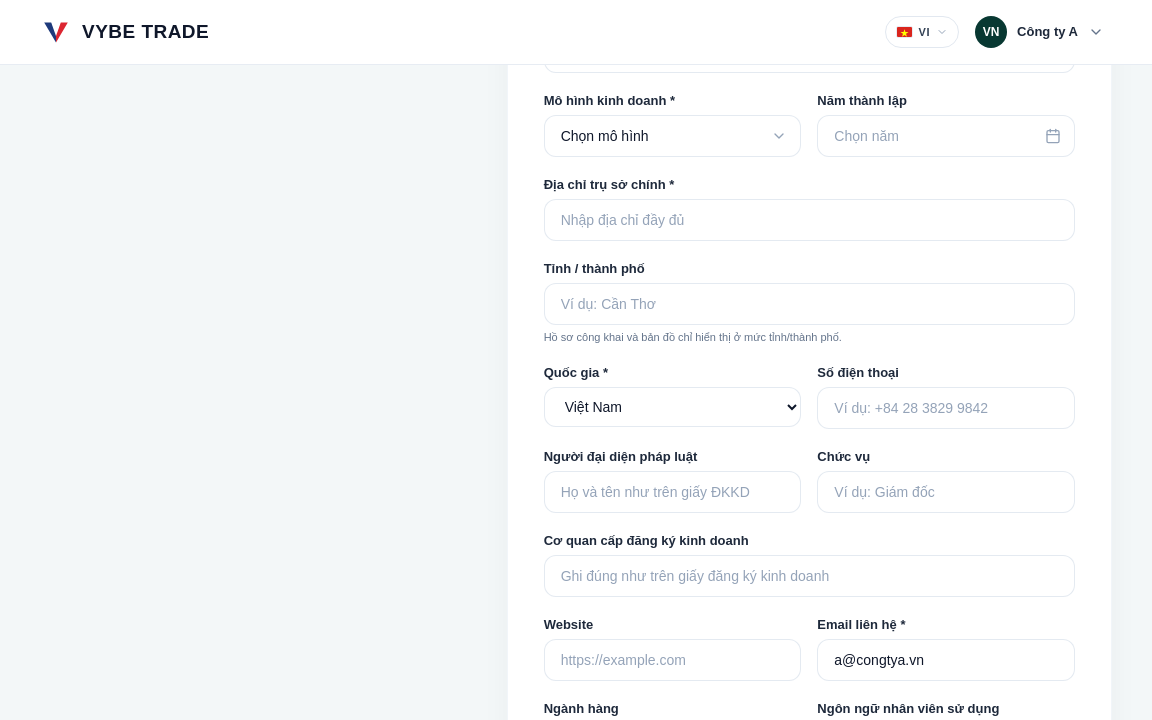
Test case: SellerOnboarding hoàn tất — gửi hồ sơ và danh sách sản phẩm (B5) › lỗi từ server hiện ngay trên form, người dùng không mất dữ liệu
(page scrolled)
Submit the form named "Tiếp tục"
(page scrolled)
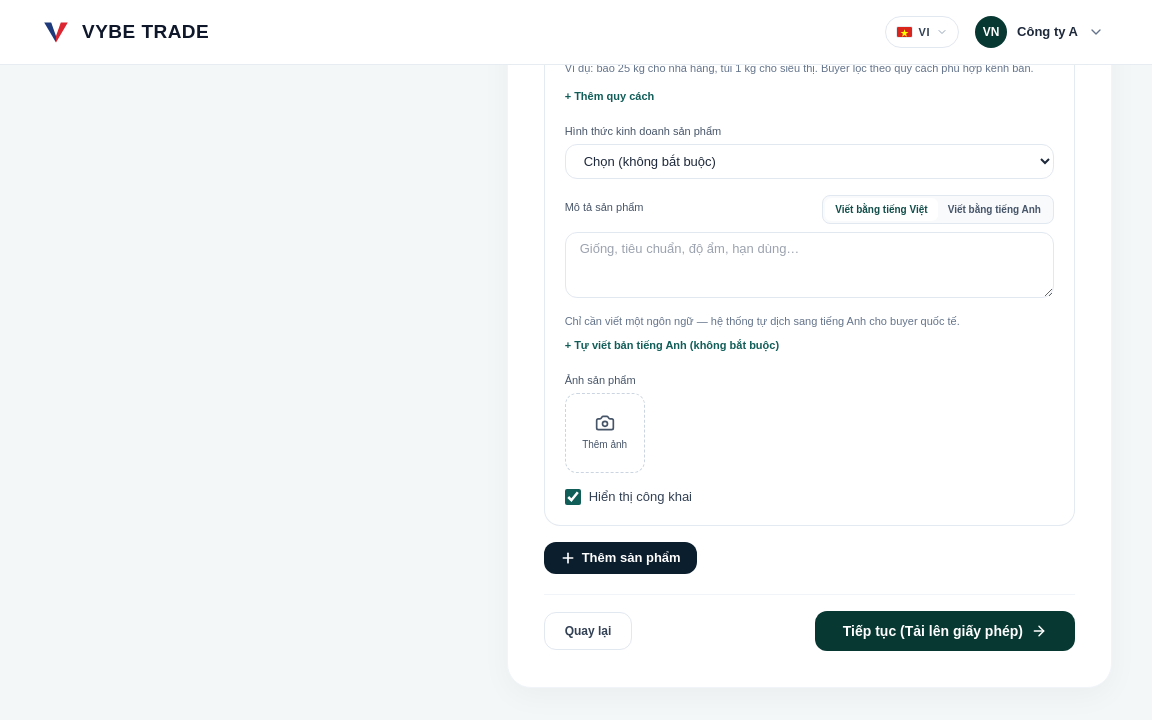
Click the button "Tiếp tục (Tải lên giấy phép)" at (945, 630), box [815, 610, 1075, 650]
(page scrolled)
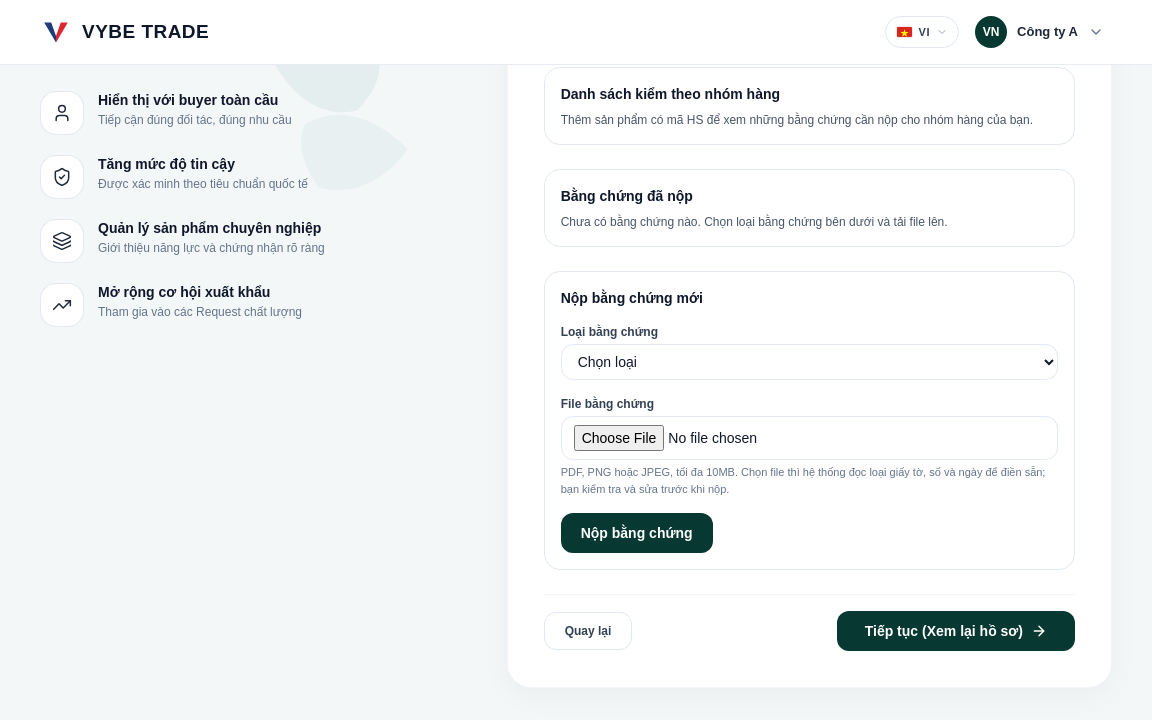
Click the button "Tiếp tục (Xem lại hồ sơ)" at (956, 631), box [837, 611, 1075, 651]
(page scrolled)
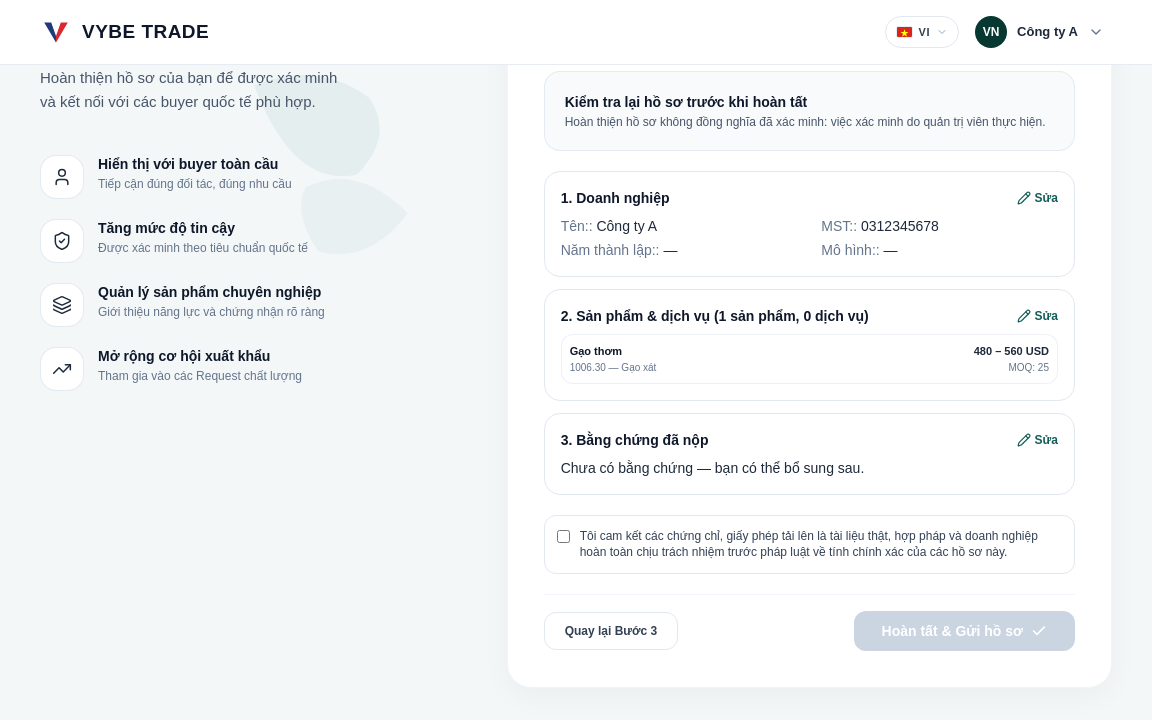
Click the checkbox labelled "Tôi cam kết" at (563, 536), box [557, 530, 570, 542]
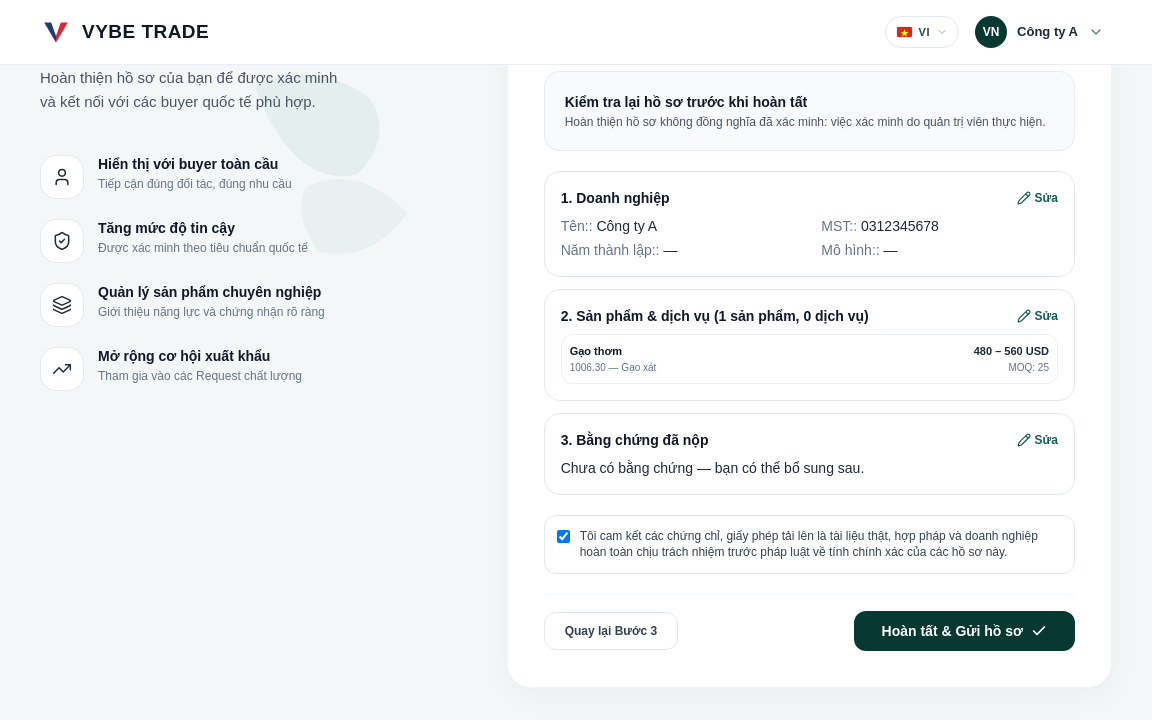
Click the button "Hoàn tất & Gửi hồ sơ" at (964, 630), box [854, 610, 1075, 650]
(page scrolled)
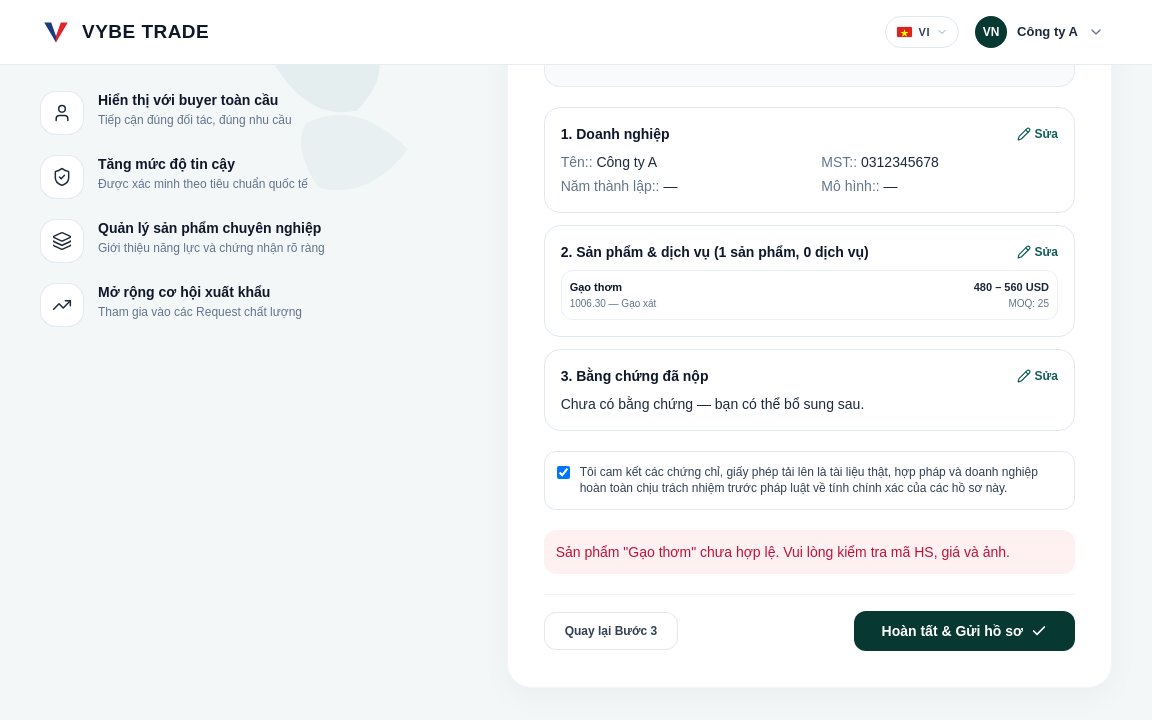
Expected: the button "Hoàn tất & Gửi hồ sơ" is enabled, [854, 610, 1075, 650]
Expected: the message shows "Sản phẩm \"Gạo thơm\" chưa hợp lệ", [556, 544, 1010, 560]
